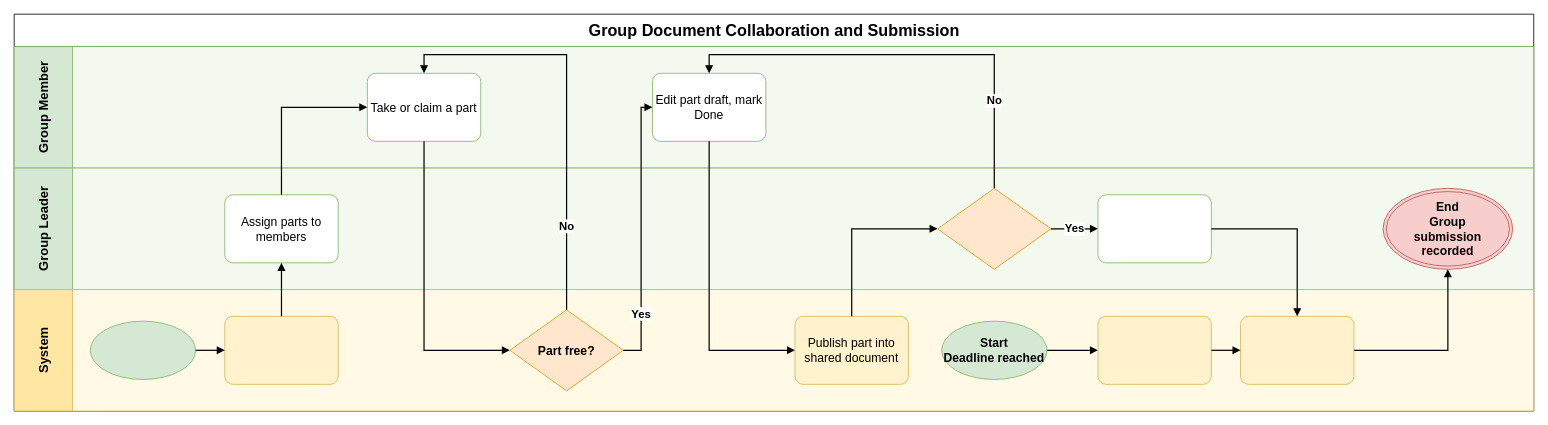
Image size: 1548x425. Some labels were removed from this diagram. The centre of each missing label's shape, as x and y in pixels:
Auto-submit last saved work: (x=1154, y=349)
Create group document from skeleton: (x=281, y=349)
Freeze snapshot, queue grading: (x=1297, y=349)
Start Assignment opens: (x=143, y=349)
Submit now?: (x=994, y=228)
Submit or resubmit document: (x=1154, y=228)
